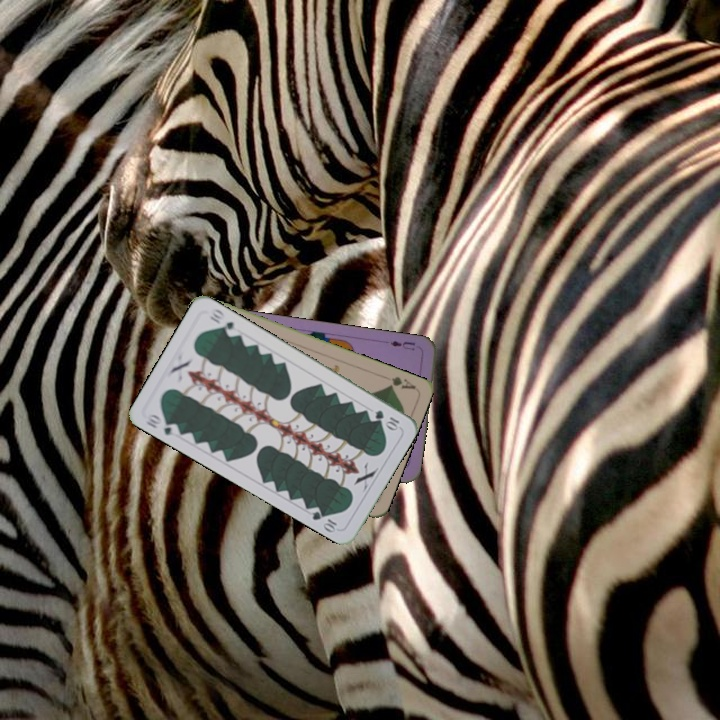EU: (386, 336, 418, 353)
G10: (142, 409, 182, 439), (370, 406, 403, 432)
GA: (383, 372, 418, 392)
